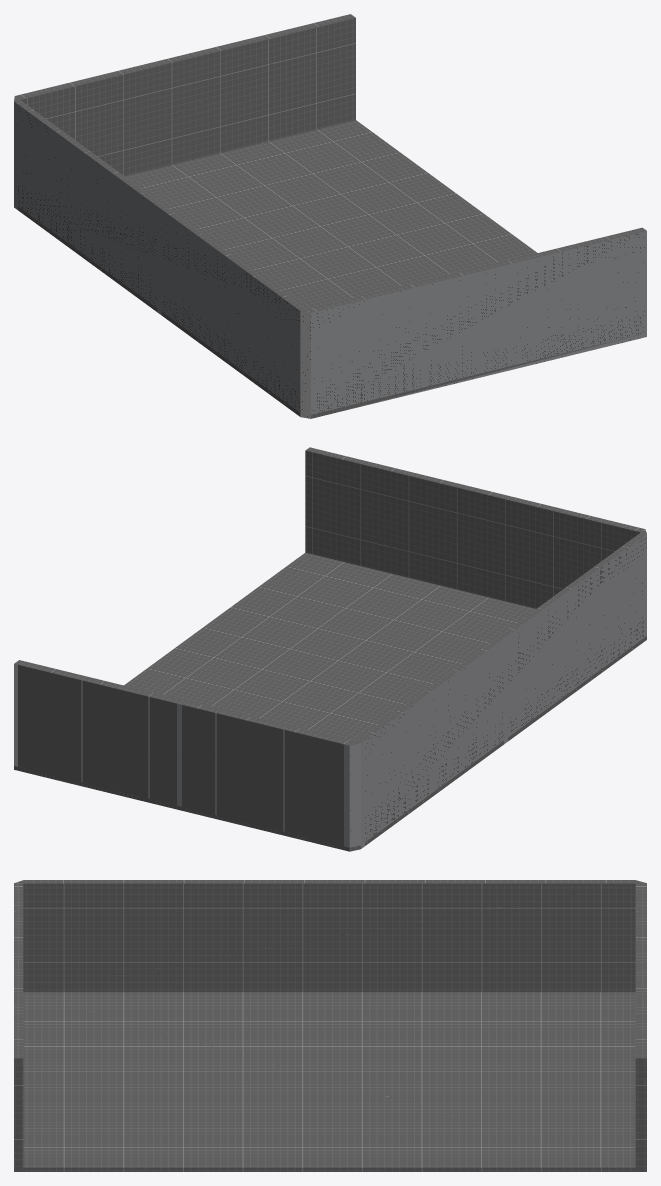
File: Roboman_test_chamber_1.glb
3 renders of one model, top to bottom at view 1: azimuth 30°, elevation 25°; view 2: azimuth 150°, elevation 25°; view 3: azimuth 270°, elevation 25°, orthographic. The views are drawn at different scales.
Visible parts, largest first — view 1: Entrance.002; view 2: Entrance.002; view 3: Entrance.002.
Part boxes in pixels (x1,y1,x2,y2): Entrance.002: (14,14,646,418); Entrance.002: (14,447,646,851); Entrance.002: (14,880,646,1171).
Bounding box in the file's own units: 11.68 × 3.46 × 17.51.
Materials: 1 (1 with a texture image).
